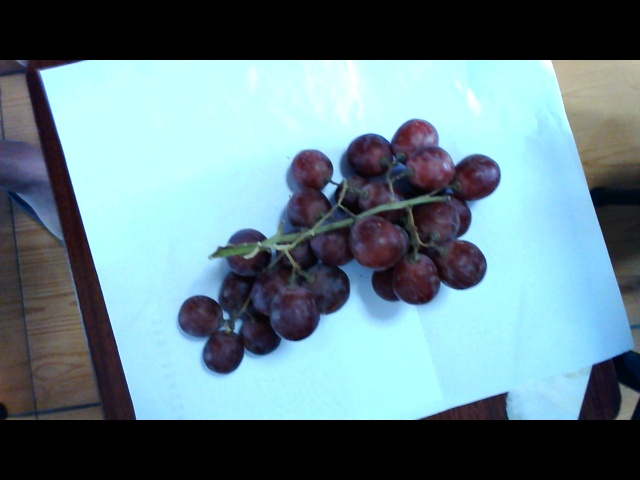grape: (172, 131, 525, 371)
